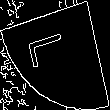L_E: (32, 33, 78, 77)
